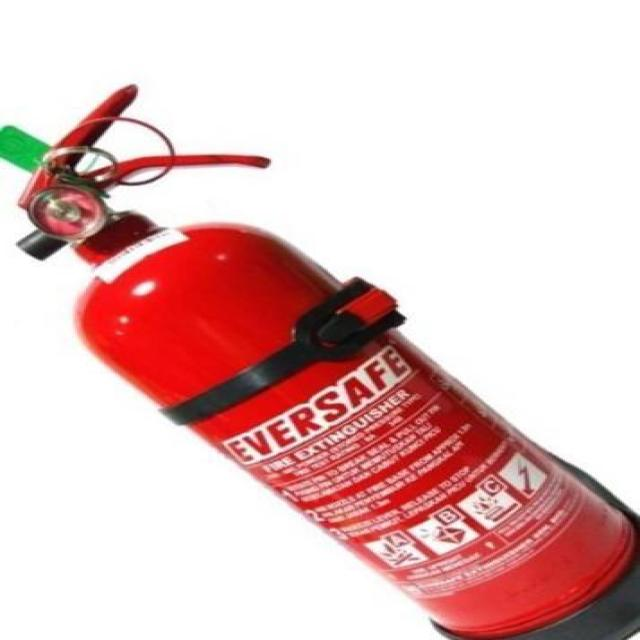fire_extinguisher: (0, 76, 638, 639)
